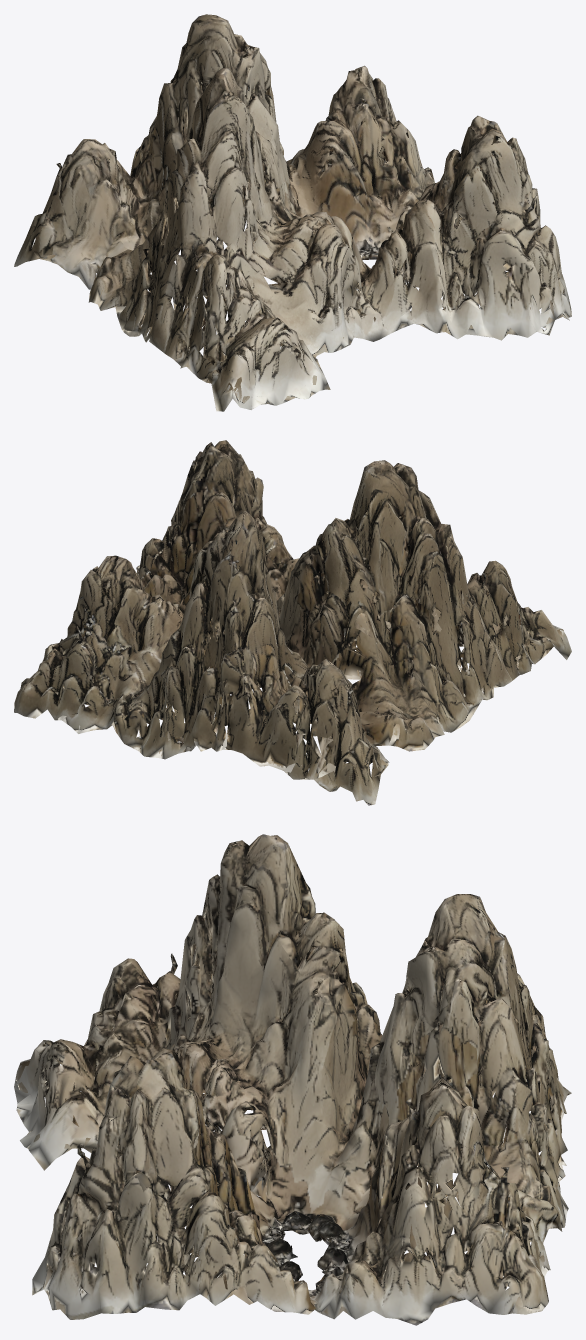
File: ScrollRidge.fbx
3 views of the same model, one above another, from view 1: azimuth 30°, elevation 25°; view 2: azimuth 150°, elevation 25°; view 3: azimuth 270°, elevation 25° (orthographic). The views are drawn at different scales.
Visible parts, largest first — view 1: ScrollRidge; view 2: ScrollRidge; view 3: ScrollRidge.
Boxes of the visible parts, left/top/right/bottom form: ScrollRidge: left=14, top=14, right=571, bottom=411; ScrollRidge: left=14, top=440, right=571, bottom=805; ScrollRidge: left=14, top=834, right=571, bottom=1325.
Size of the model in its own units: 155 by 100 by 155.
Materials: 1 (1 with a texture image).
